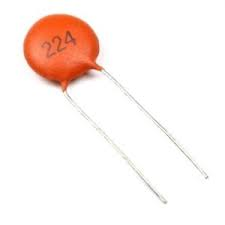ceramic capacitor: (2, 7, 129, 118)
